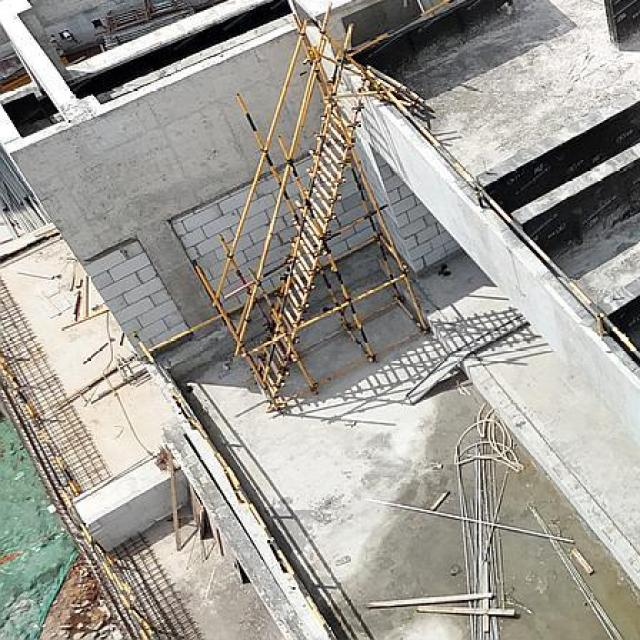edge_guardrail: (364, 69, 640, 361), (132, 334, 338, 640), (0, 357, 80, 499), (60, 488, 131, 612), (347, 0, 455, 54)
